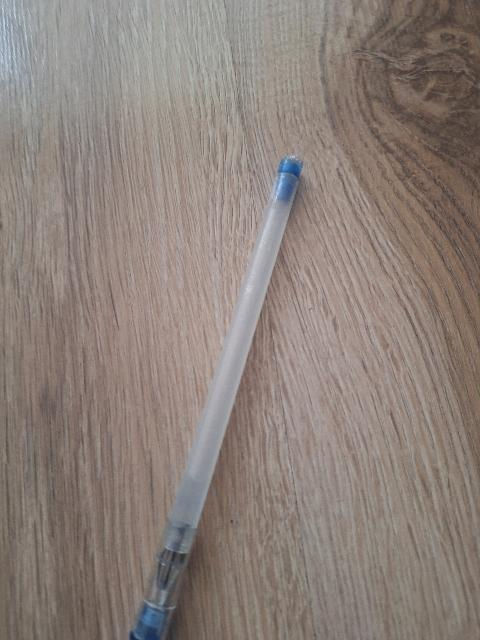writing_tool: (124, 133, 305, 640)
